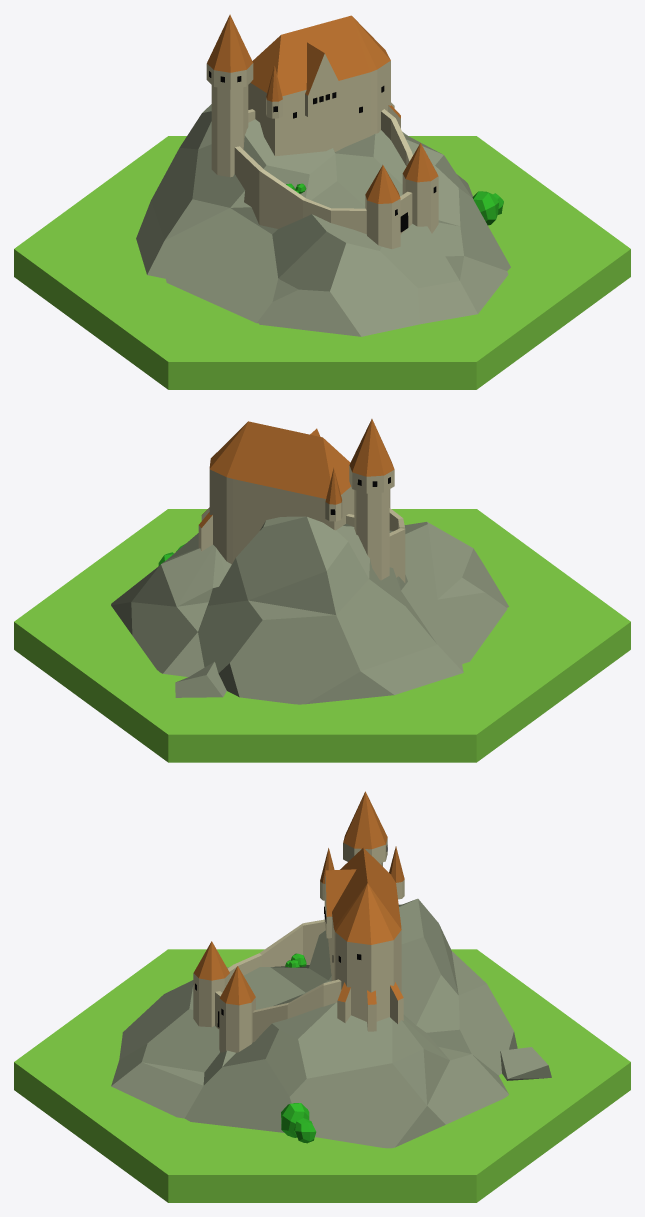
Rendered from Castle.fbx.
The picture shows the model from 3 angles, top to bottom: view 1: azimuth 30°, elevation 25°; view 2: azimuth 150°, elevation 25°; view 3: azimuth 270°, elevation 25°; orthographic projection.
Parts seen in each view (by area): view 1: Cylinder; view 2: Cylinder; view 3: Cylinder.
Part boxes in pixels (<box>): Cylinder: <box>14,14,630,389</box>; Cylinder: <box>14,419,630,762</box>; Cylinder: <box>14,791,630,1202</box>.
Bounding box in the file's own units: 173 × 94.55 × 200.
